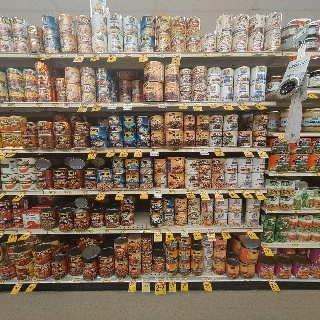All PRICE TAGS: (155, 277, 166, 282), (154, 53, 164, 58), (307, 172, 319, 176), (274, 172, 286, 176), (52, 278, 61, 283), (140, 229, 151, 233), (100, 278, 111, 282), (70, 278, 80, 282), (142, 277, 150, 282), (265, 52, 275, 56), (28, 54, 41, 57), (24, 230, 33, 234), (293, 209, 302, 213), (268, 209, 277, 213), (276, 132, 285, 136), (92, 53, 101, 57), (139, 53, 148, 57), (172, 53, 181, 57), (202, 52, 211, 56), (220, 52, 229, 56), (254, 101, 263, 105), (72, 148, 81, 152), (89, 148, 98, 152), (103, 229, 111, 233), (119, 229, 127, 233), (220, 228, 228, 232), (117, 278, 125, 282), (168, 277, 176, 281), (180, 277, 188, 281), (202, 277, 210, 281), (286, 52, 294, 56), (10, 149, 18, 153), (25, 149, 33, 153), (292, 244, 300, 248), (261, 243, 269, 247), (142, 102, 150, 106), (158, 102, 166, 106), (178, 102, 186, 106), (193, 102, 201, 106), (108, 148, 116, 152), (121, 148, 129, 152), (243, 147, 251, 151), (64, 190, 72, 194), (81, 190, 89, 194), (199, 189, 207, 193), (214, 189, 222, 193), (227, 189, 235, 193), (240, 189, 248, 193), (73, 230, 83, 233), (34, 103, 44, 106), (181, 228, 188, 232), (207, 228, 214, 232), (212, 277, 219, 281), (0, 149, 7, 153), (0, 191, 7, 195), (19, 191, 26, 195), (135, 148, 142, 152), (151, 148, 158, 152), (257, 147, 264, 151), (87, 230, 96, 233), (123, 54, 132, 57), (7, 104, 16, 107), (45, 54, 54, 57), (59, 54, 68, 57), (76, 54, 85, 57), (108, 54, 117, 57), (208, 102, 217, 105), (237, 102, 246, 105), (47, 191, 56, 194), (116, 190, 125, 193), (253, 189, 262, 192), (0, 280, 6, 284), (267, 278, 275, 281), (129, 279, 137, 282), (251, 52, 259, 55), (52, 103, 60, 106), (63, 103, 71, 106), (80, 103, 88, 106), (94, 103, 102, 106), (109, 103, 117, 106), (124, 103, 132, 106), (222, 102, 230, 105), (172, 148, 180, 151), (184, 148, 192, 151), (199, 148, 207, 151), (214, 148, 222, 151), (98, 190, 106, 193), (141, 190, 149, 193), (169, 190, 177, 193), (186, 190, 194, 193), (49, 230, 57, 233), (154, 229, 161, 232), (166, 229, 173, 232), (193, 228, 200, 231), (246, 228, 253, 231), (11, 231, 18, 234), (17, 281, 24, 284), (32, 280, 39, 283), (155, 190, 162, 193), (0, 231, 5, 234), (316, 209, 319, 213)
